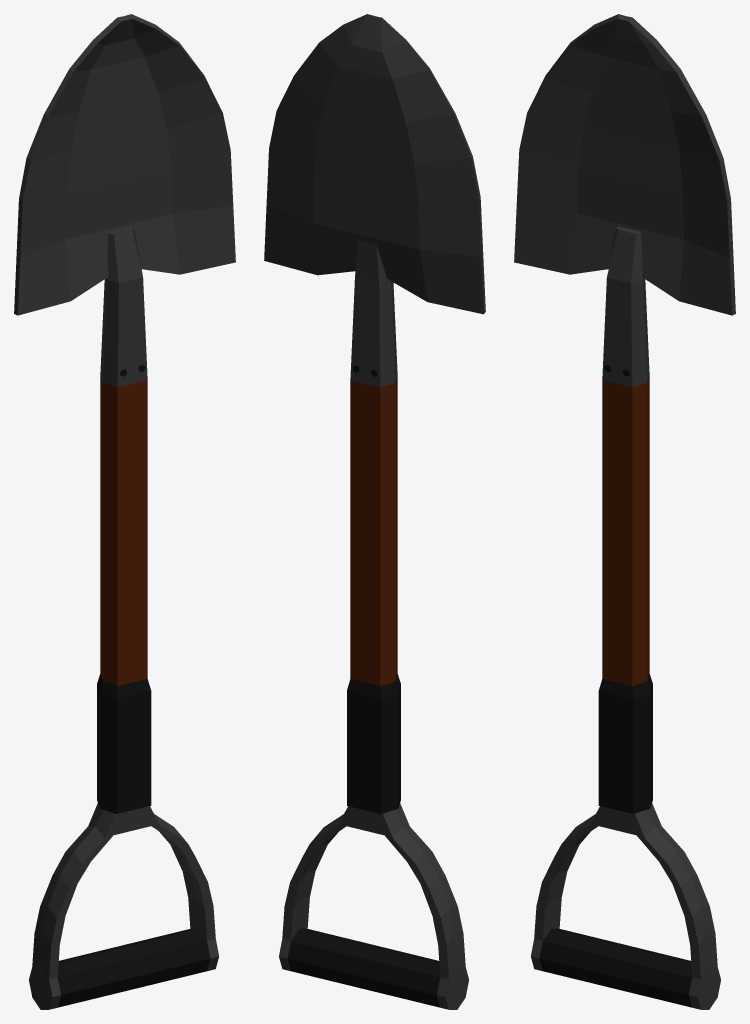
File: Shovel.glb
3 views of the same model, side by side, from view 1: azimuth 30°, elevation 25°; view 2: azimuth 150°, elevation 25°; view 3: azimuth 330°, elevation 25° (orthographic).
Visible parts, largest first — view 1: Shovel; view 2: Shovel; view 3: Shovel.
Boxes of the visible parts, <box> form: Shovel: <box>14,14,235,1009</box>; Shovel: <box>264,14,485,1009</box>; Shovel: <box>514,14,735,1009</box>.
Bounding box in the file's own units: 0.2157 × 0.9137 × 0.0403.
Materials: 1 (1 with a texture image).
